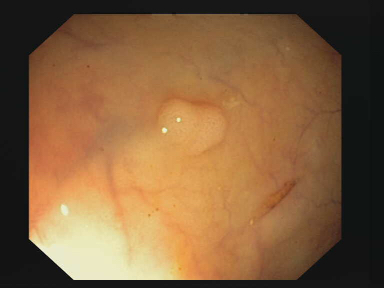polyp: (156, 99, 233, 153)
